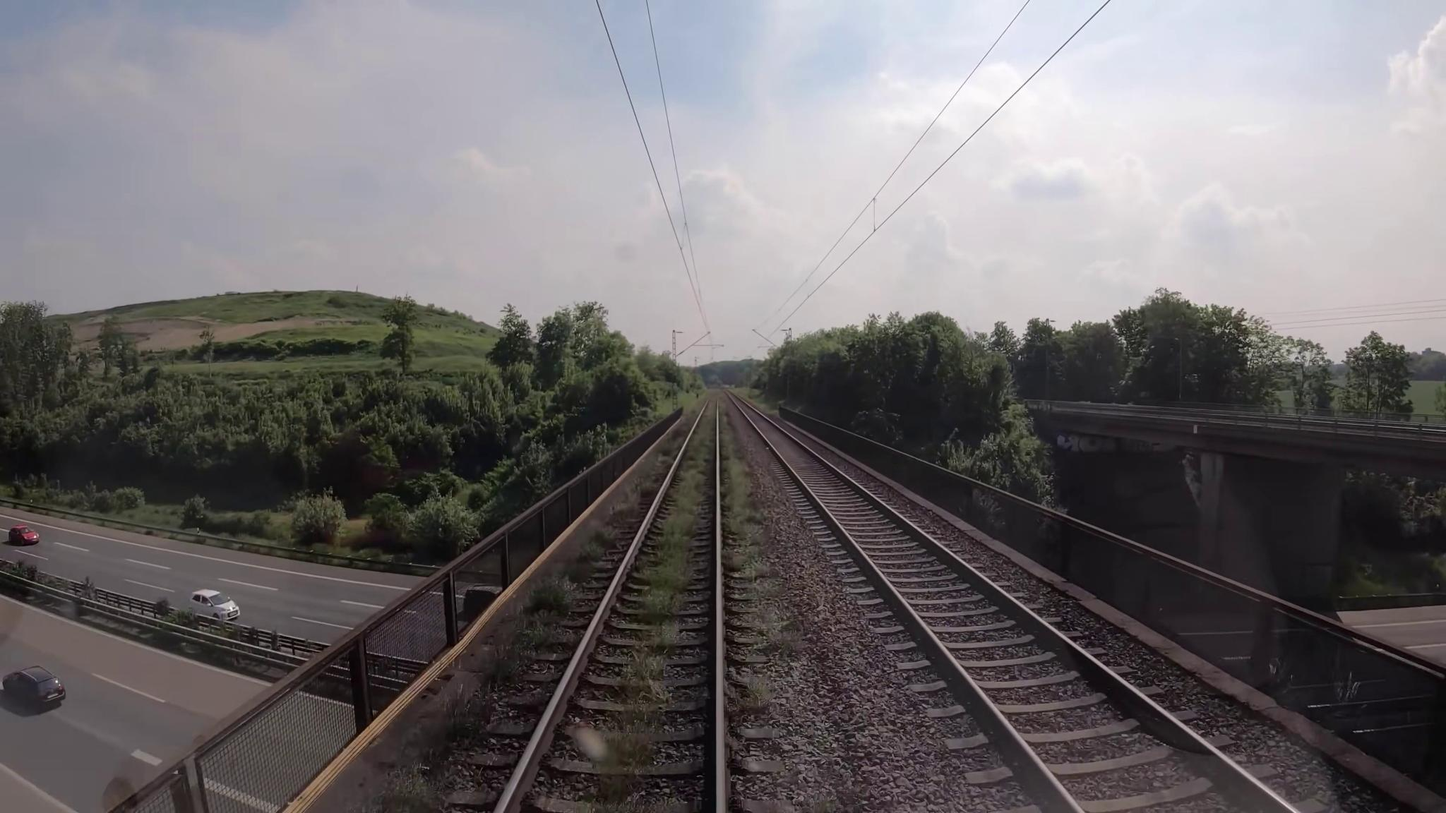Plant: (369, 435, 680, 753), (720, 406, 815, 662), (627, 401, 709, 656), (610, 650, 671, 705)
